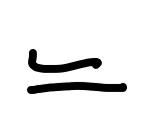eqv: (27, 49, 127, 94)
